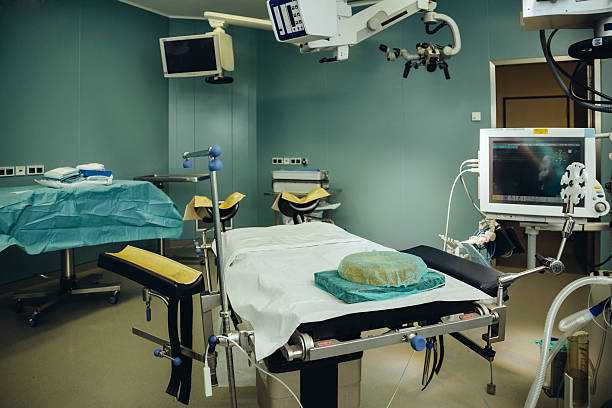bedside_monitor: (479, 128, 592, 215), (158, 33, 235, 83)
breathing_tube: (524, 277, 612, 408)
operating_bed: (98, 146, 509, 408)
utility_cart: (1, 162, 182, 328), (133, 174, 207, 268)
